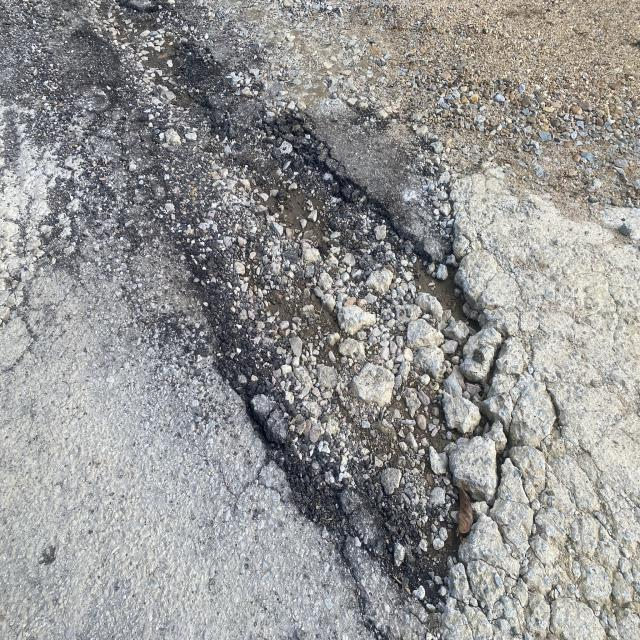pothole: (128, 31, 531, 640)
